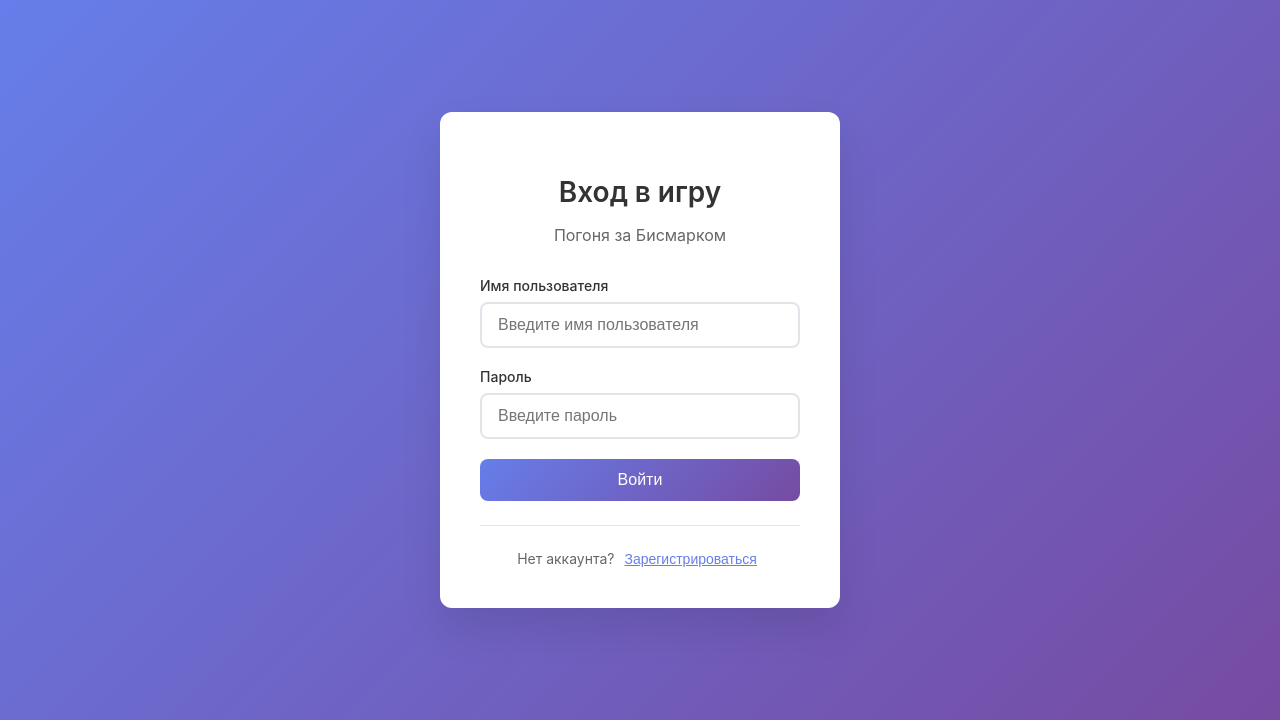
Test case: LoginForm › Validation › should clear error when user starts typing
Click the button "Войти".
click(640, 480)  # box [480,459,800,501]
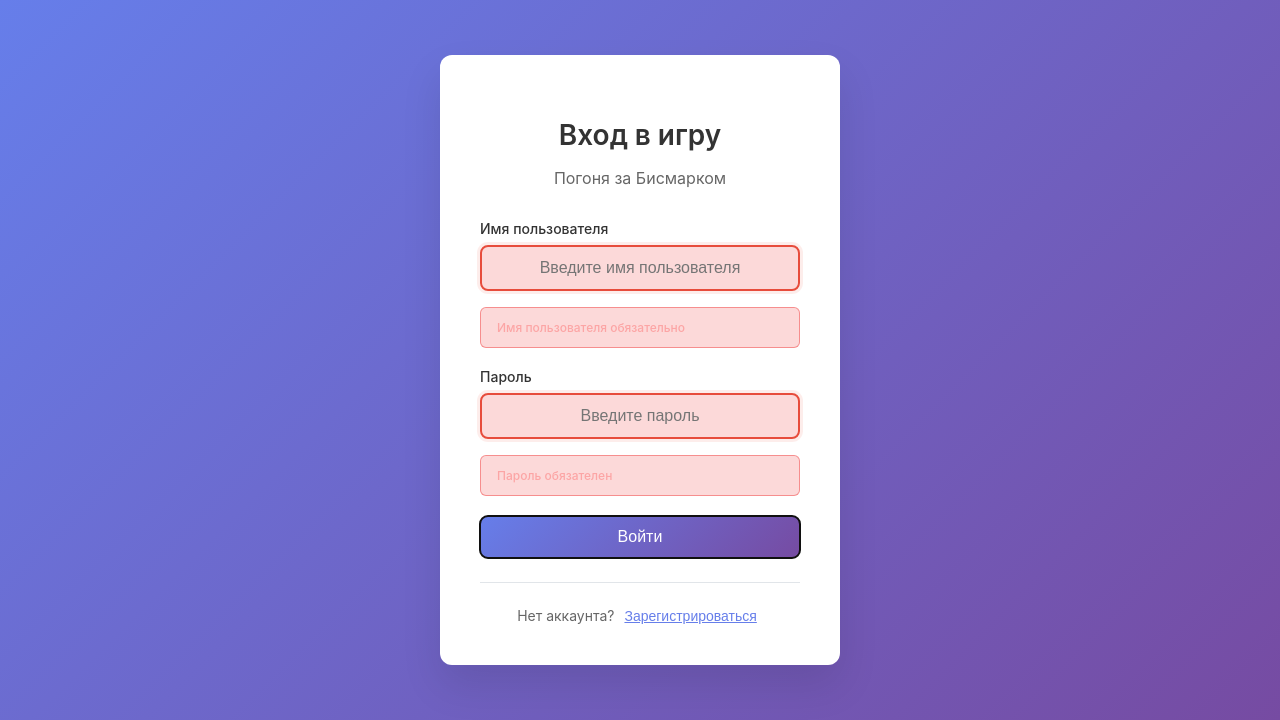
Check: the text "Имя пользователя обязательно" is shown, box [480,307,800,348]
Type "t" into the field labelled "Имя пользователя".
click(640, 268); type("t")  # box [480,245,800,291]
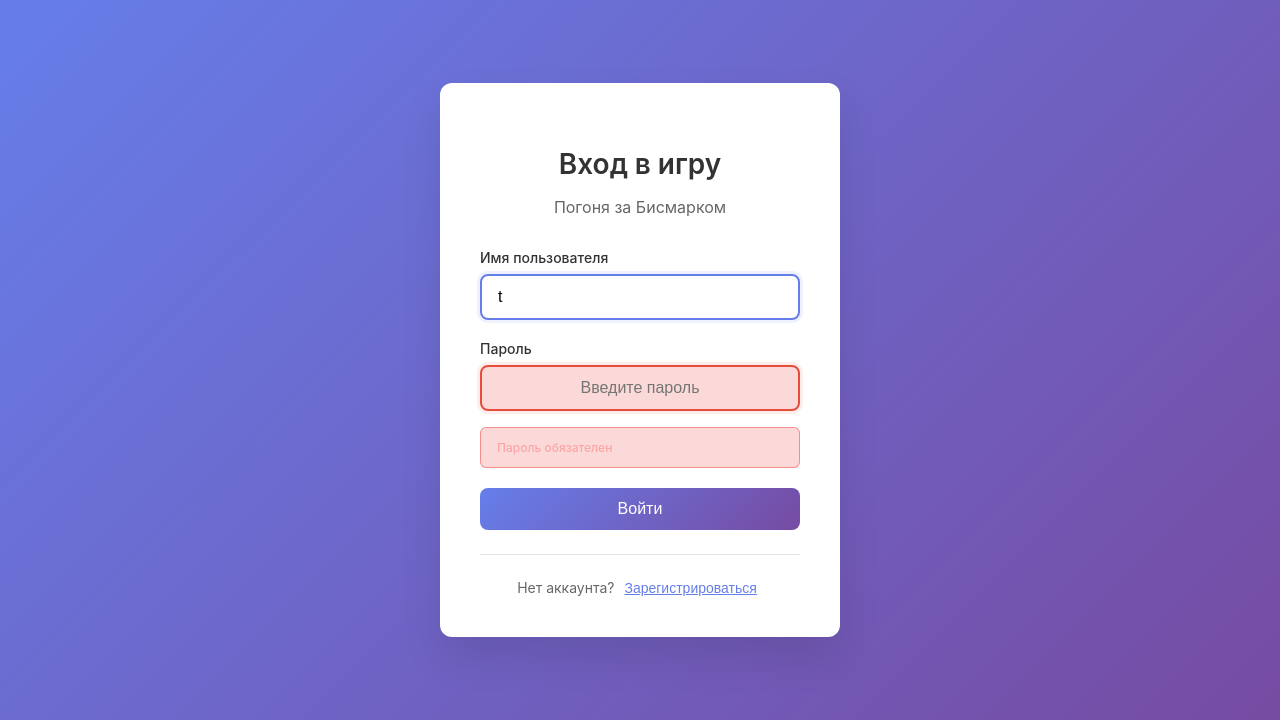
Check: the text "Имя пользователя обязательно" is gone
